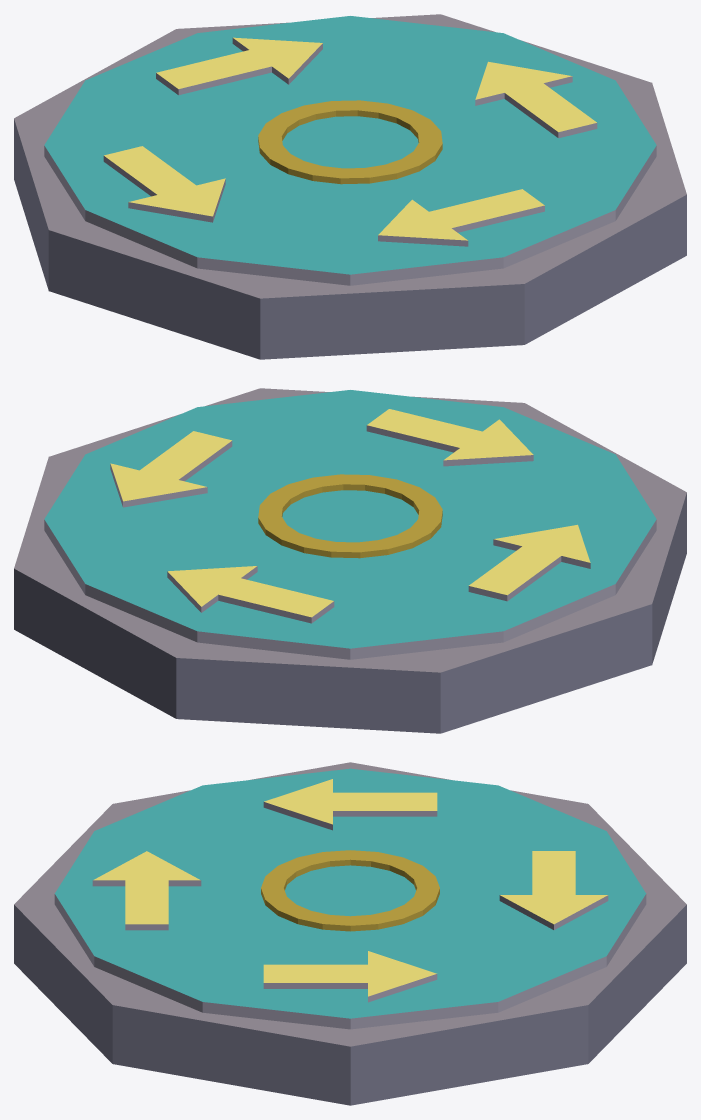
The model's file is star_garden_rotating_platform.obj.
3 renders of one model, top to bottom at view 1: azimuth 30°, elevation 25°; view 2: azimuth 150°, elevation 25°; view 3: azimuth 270°, elevation 25°, orthographic. The views are drawn at different scales.
Parts seen in each view (by area): view 1: star_garden_rotating_platform; view 2: star_garden_rotating_platform; view 3: star_garden_rotating_platform.
Part boxes in pixels (x1,y1,x2,y2): star_garden_rotating_platform: (14,14,686,359); star_garden_rotating_platform: (14,388,686,733); star_garden_rotating_platform: (14,762,686,1105).
Size of the model in its own units: 12.4 by 1.54 by 12.4.
